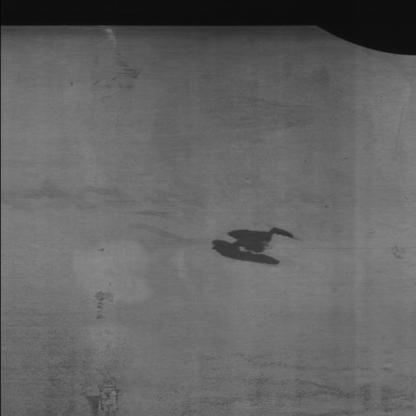crescent_gap: (279, 23, 416, 66)
oil_spot: (204, 223, 295, 270)
rolled_pit: (80, 27, 152, 99)
